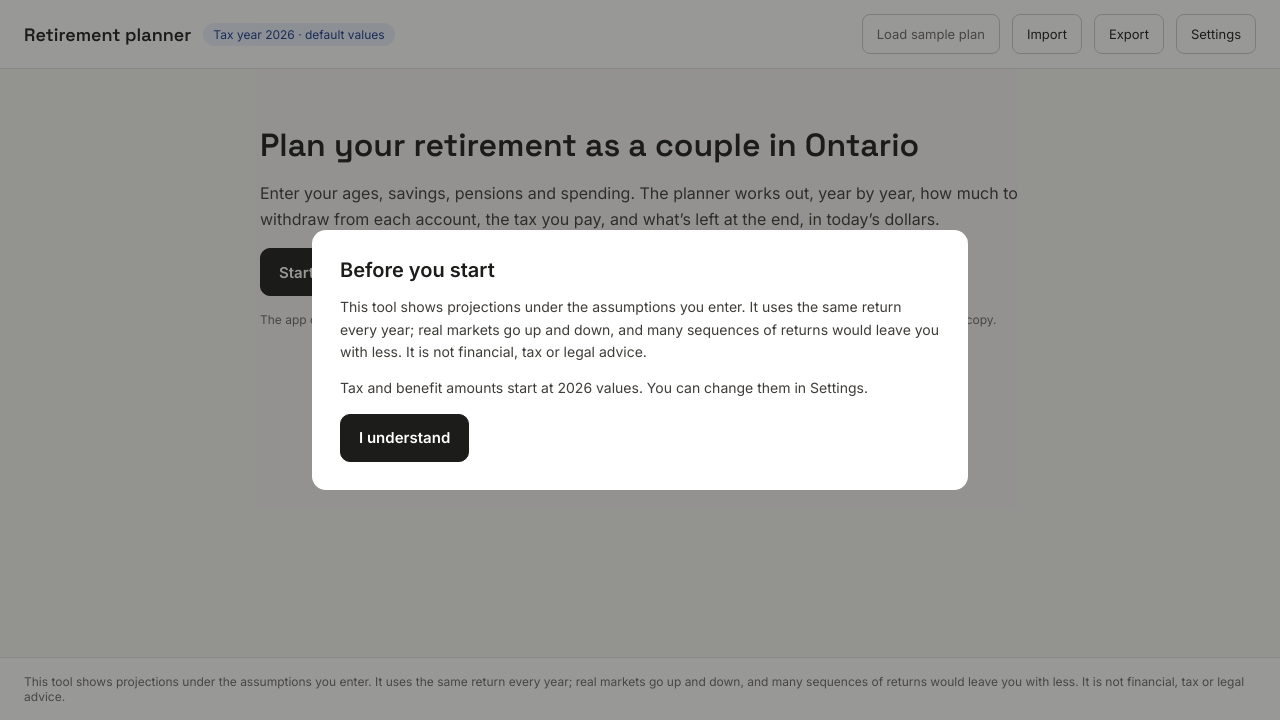
Test: the first-run dialog › closes and remembers it was seen
Step 1. Click the button "I understand" → click(405, 438), box [340, 414, 469, 462]
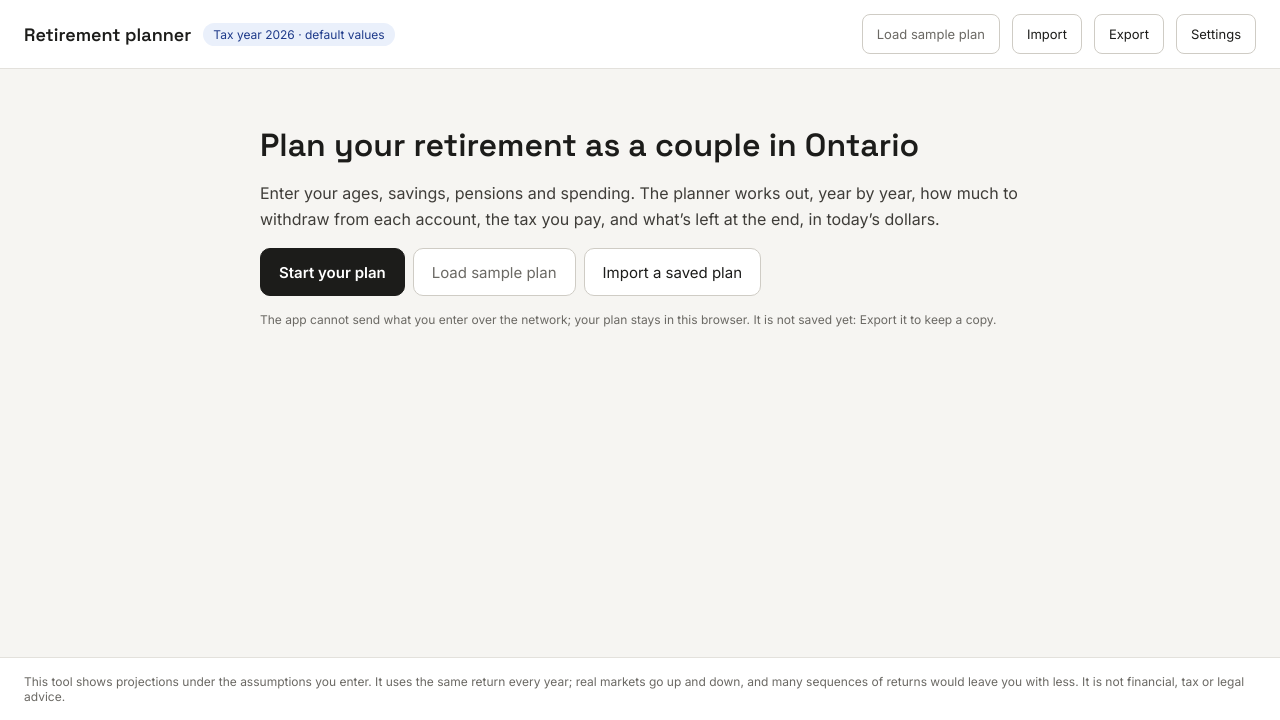
Now the button "I understand" is gone
